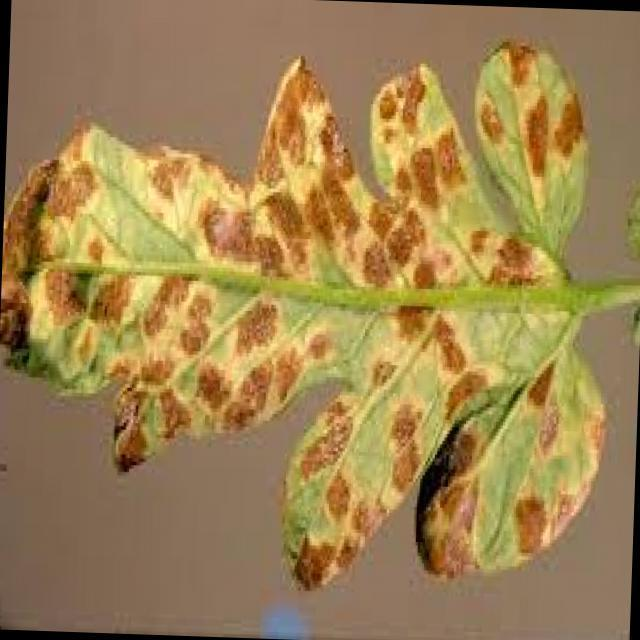Mosaic Virus: (0, 29, 609, 614)
